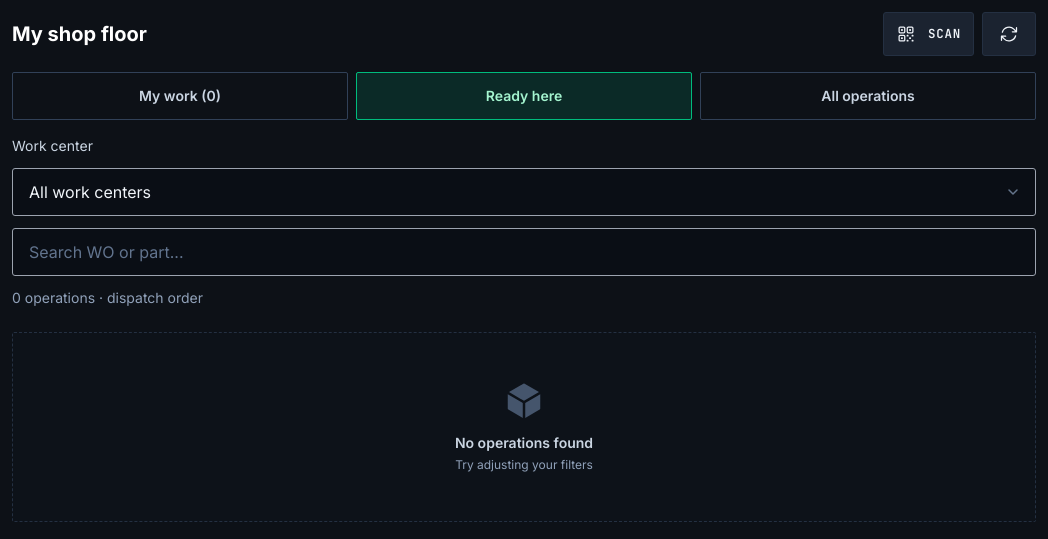
Test: ShopFloorSimple phone workspace › clears a conflicting work-center filter for a work_order traveler scan
Click the button with aria-label "Scan traveler" at coordinates (929, 34), box [883,12,974,56]
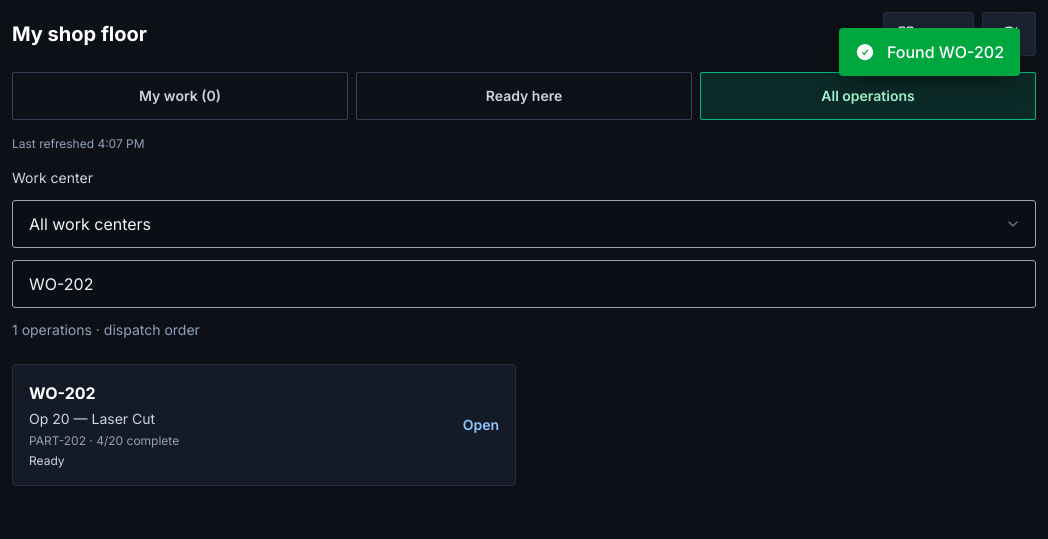
Expected: the dropdown labelled "Work center" shows "All work centers", [12,200,1036,248]
Result: the element with test id "shop-floor-op-202" is shown at [12,364,516,486]
Result: the search field named "Search work orders or parts" holds "WO-202" at [12,260,1036,308]
